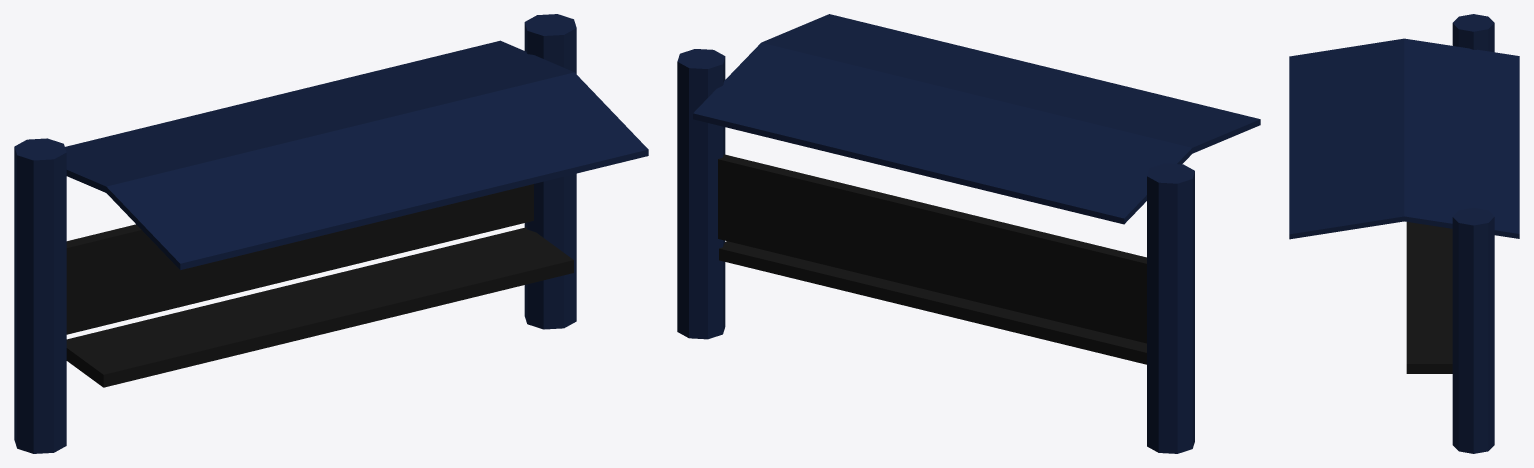
Rendered from ponto_onibus.fbx.
3 views of the same model, side by side, from view 1: azimuth 30°, elevation 25°; view 2: azimuth 150°, elevation 25°; view 3: azimuth 270°, elevation 25° (orthographic). The views are drawn at different scales.
Parts seen in each view (by area): view 1: ponto_onibus; view 2: ponto_onibus; view 3: ponto_onibus.
Part boxes in pixels (x1,y1,x2,y2): ponto_onibus: (14, 14, 648, 453); ponto_onibus: (677, 14, 1260, 453); ponto_onibus: (1289, 14, 1519, 453).
Size of the model in its own units: 380 by 191 by 175.
